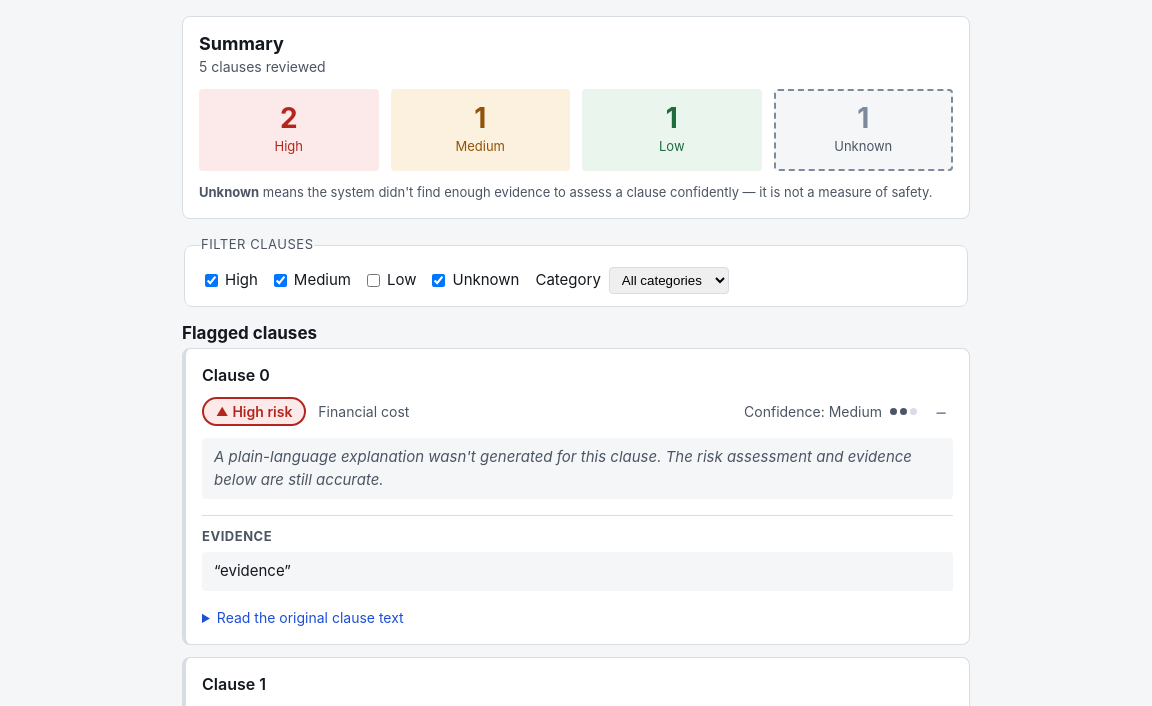
Test: ReportView › filtering by category narrows the visible clauses
Select "Termination" in the dropdown labelled "Category". click: point(669, 280)
box: [609,267,729,294]
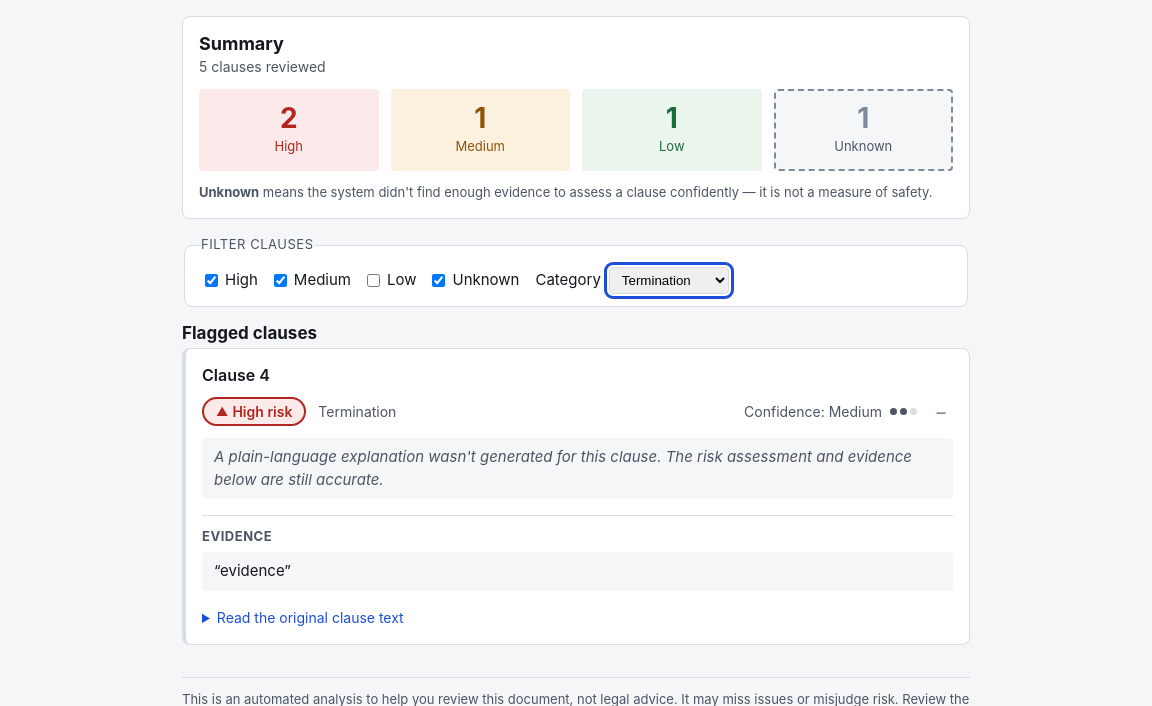
Expected: the heading "Clause 4" is shown, [202,365,270,385]
Now the heading "Clause 0" is gone
